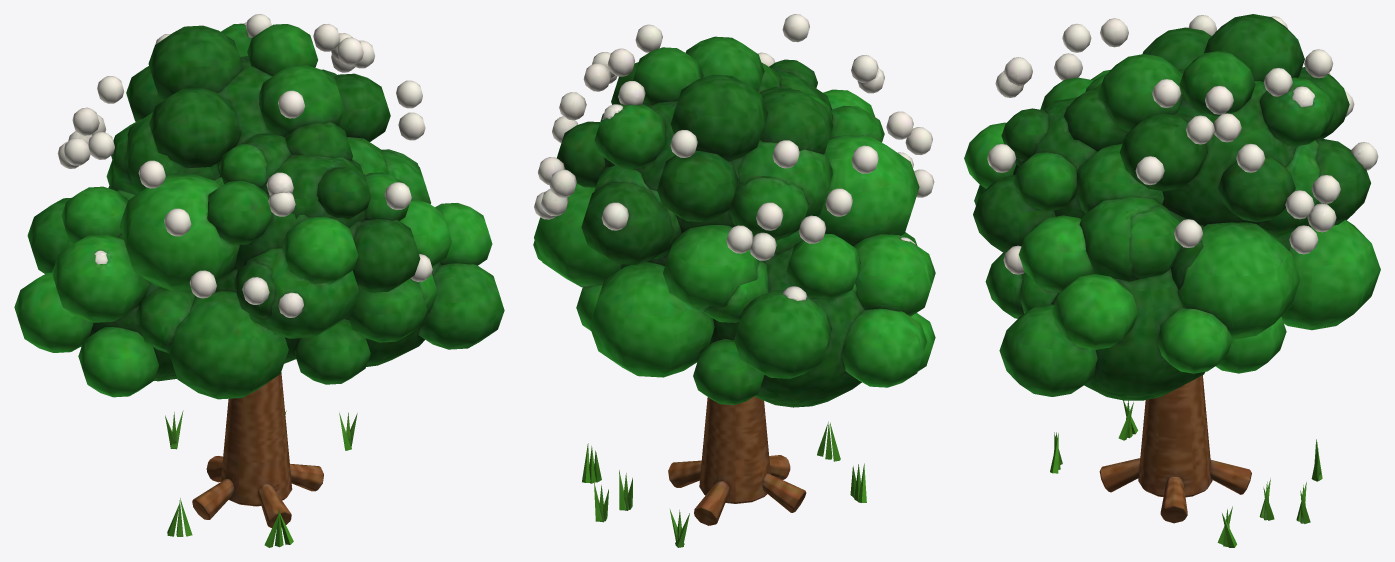
The model's file is kumquat_tree.glb.
The picture shows the model from 3 angles, left to right: view 1: azimuth 30°, elevation 25°; view 2: azimuth 150°, elevation 25°; view 3: azimuth 270°, elevation 25°; orthographic projection. The views are drawn at different scales.
Parts seen in each view (by area): view 1: crown, kumquat_tree; view 2: crown, kumquat_tree; view 3: crown, kumquat_tree.
Boxes of the visible parts, box(x1,y1,x2,y2) form: crown: box(14, 14, 504, 399); kumquat_tree: box(165, 372, 357, 547); crown: box(533, 14, 935, 407); kumquat_tree: box(582, 396, 866, 547); crown: box(964, 14, 1380, 400); kumquat_tree: box(1050, 375, 1322, 547).
Bounding box in the file's own units: 1.04 × 1.11 × 0.9003.
1 material, 1 textured.
